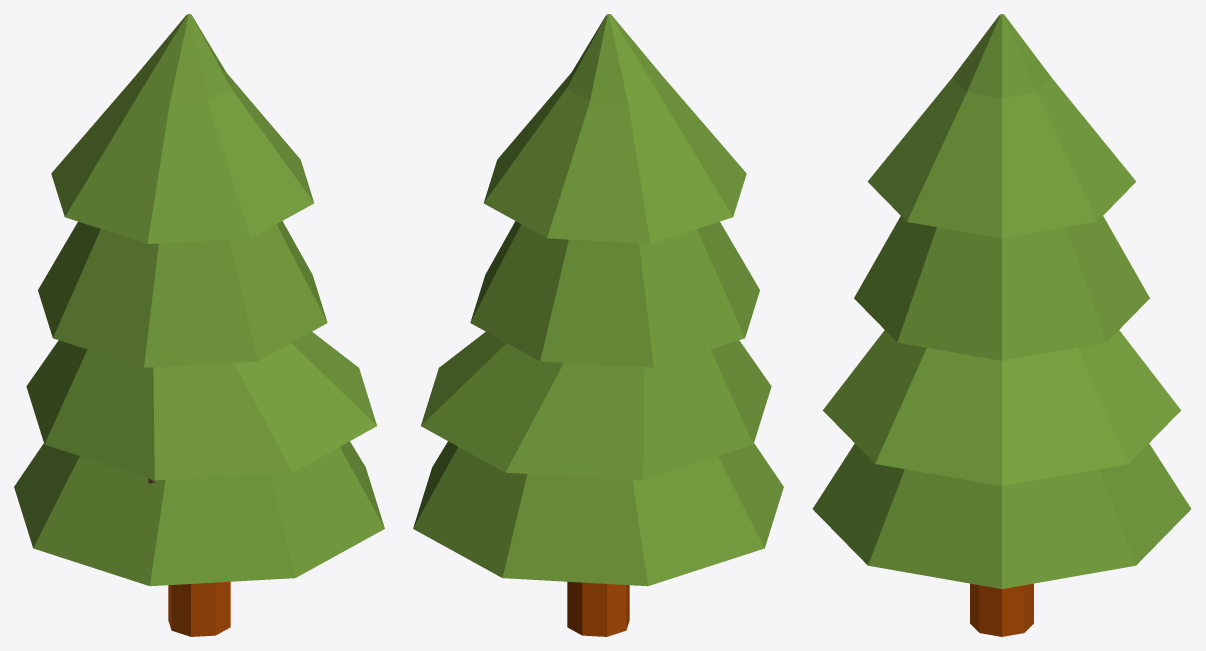
Rendered from tower.glb.
3 renders of one model, left to right at view 1: azimuth 30°, elevation 25°; view 2: azimuth 150°, elevation 25°; view 3: azimuth 270°, elevation 25°, orthographic.
Parts seen in each view (by area): view 1: Low poly tree; view 2: Low poly tree; view 3: Low poly tree.
Part boxes in pixels (x1,y1,x2,y2): Low poly tree: (14,14,384,636); Low poly tree: (413,14,783,636); Low poly tree: (812,14,1191,636).
Bounding box in the file's own units: 9.18 × 16.13 × 9.18.
Materials: 2 (2 with a texture image).
